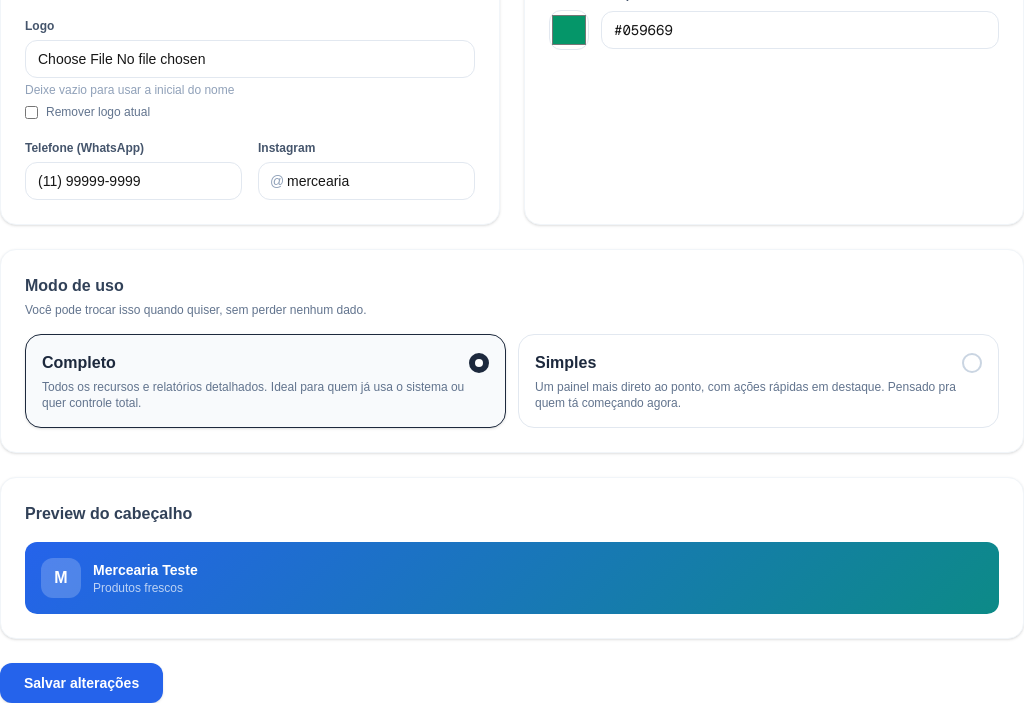
Test case: MarcaForm › exibe a mensagem de erro retornada pela action
(page scrolled)
Click the button "Salvar alterações".
click(82, 683)  # box x1=0 y1=663 x2=163 y2=702
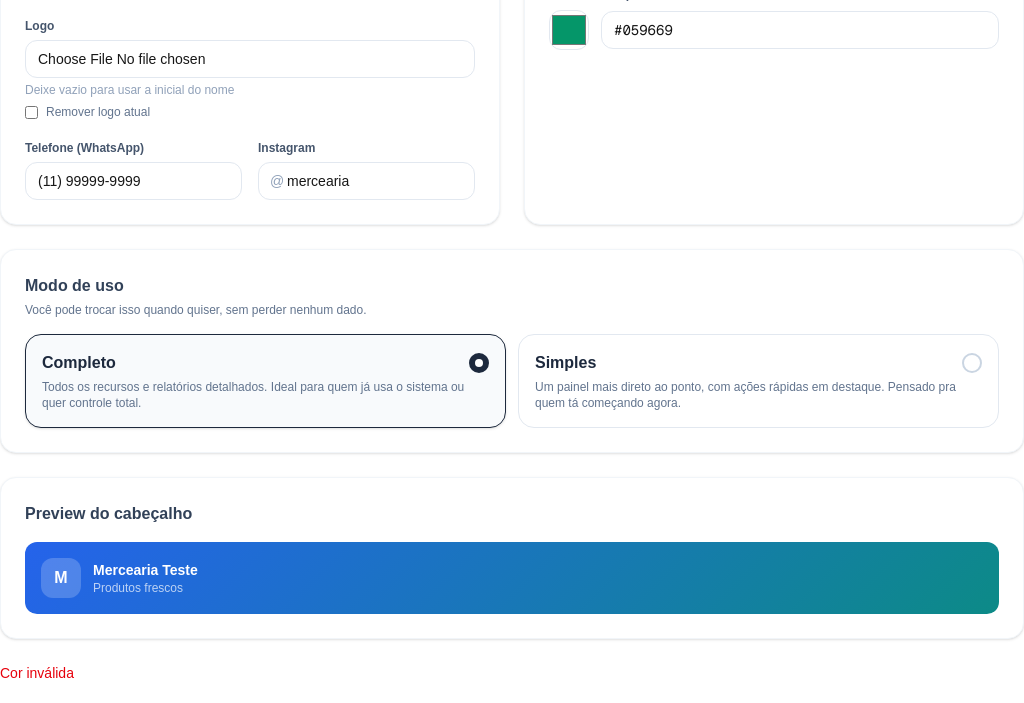
Result: the text "Cor inválida" is shown at x1=0 y1=665 x2=74 y2=681
